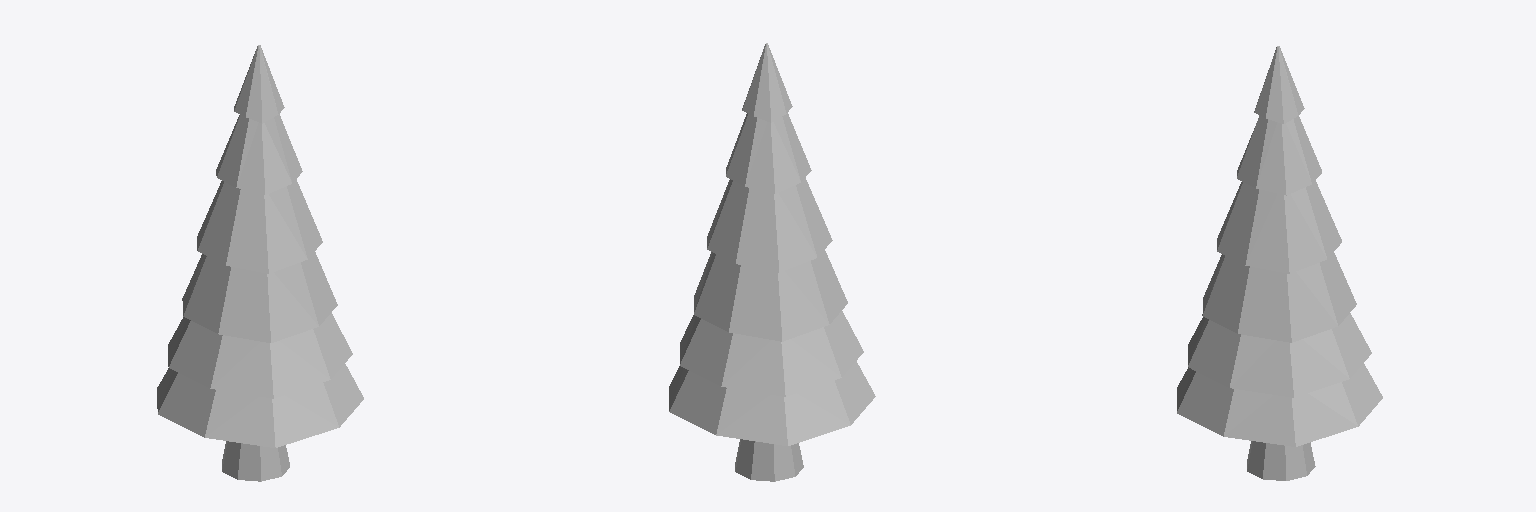
File: lowpolytree_big.obj
The picture shows the model from 3 angles: view 1: azimuth 30°, elevation 25°; view 2: azimuth 150°, elevation 25°; view 3: azimuth 270°, elevation 25°; orthographic projection.
Visible parts, largest first — view 1: Cylinder_Cylinder_Leaves, Cylinder_Cylinder_Bark; view 2: Cylinder_Cylinder_Leaves, Cylinder_Cylinder_Bark; view 3: Cylinder_Cylinder_Leaves, Cylinder_Cylinder_Bark.
Boxes of the visible parts, x1,y1,x2,y2 form: Cylinder_Cylinder_Leaves: [157, 45, 363, 447]; Cylinder_Cylinder_Bark: [222, 441, 289, 481]; Cylinder_Cylinder_Leaves: [669, 43, 875, 445]; Cylinder_Cylinder_Bark: [735, 439, 803, 481]; Cylinder_Cylinder_Leaves: [1177, 46, 1382, 446]; Cylinder_Cylinder_Bark: [1247, 441, 1315, 480].
Bounding box in the file's own units: 3.7 × 8.22 × 3.65.